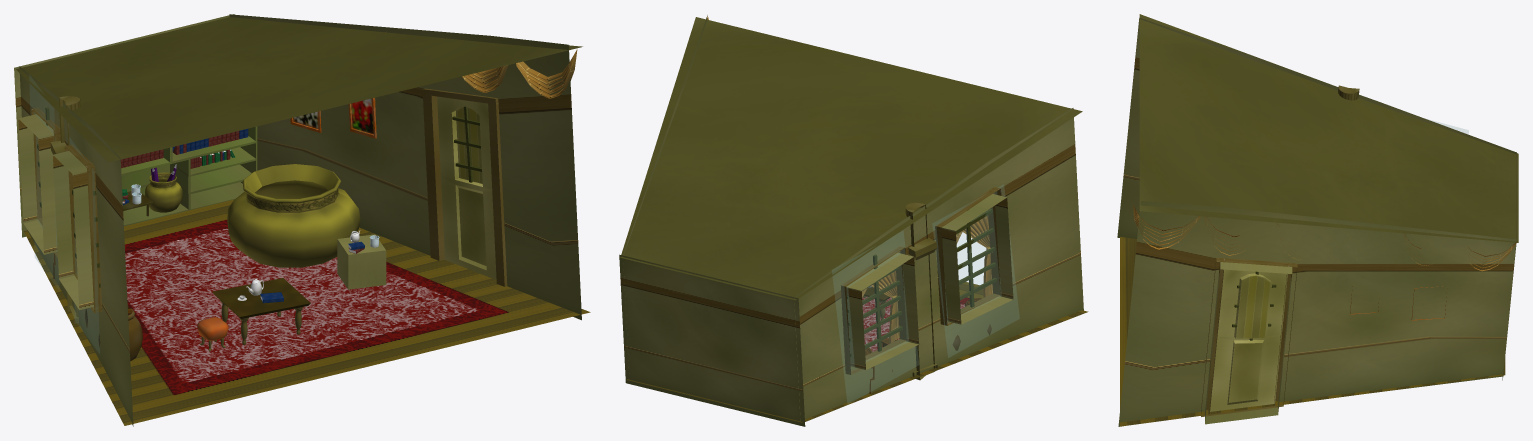
File: bg_302_aliceA.fbx
3 renders of one model, left to right at view 1: azimuth 30°, elevation 25°; view 2: azimuth 150°, elevation 25°; view 3: azimuth 270°, elevation 25°, orthographic. The views are drawn at different scales.
Visible parts, largest first — view 1: floor, pPlane4, polySurface1, pPlane2, pTorus11, polySurface4, Hondana, pasted__pPlane2, polySurface3, pCube30, pCube31, pPlane6 (+10 smaller); view 2: pPlane4, pPlane2, pPlane5, pasted__pPlane2, pPlane17, pPlane16, floor, pPlane6, pPlane7, pPlane8, pPlane9, polySurface1; view 3: polySurface1, pPlane4, polySurface4, pPlane2, floor, polySurface3, pasted__pPlane2, pPlane15.
Boxes of the visible parts, <box> form: floor: <box>24,199,590,425</box>; pPlane4: <box>16,17,582,162</box>; polySurface1: <box>229,14,581,320</box>; pPlane2: <box>18,66,133,426</box>; pTorus11: <box>227,164,360,267</box>; polySurface4: <box>437,96,496,279</box>; Hondana: <box>121,126,257,226</box>; pasted__pPlane2: <box>18,71,132,415</box>; polySurface3: <box>422,88,507,286</box>; pCube30: <box>337,234,386,289</box>; pCube31: <box>212,278,310,318</box>; pPlane6: <box>64,144,102,313</box>; pPlane4: <box>620,17,1082,300</box>; pPlane2: <box>794,108,1083,421</box>; pPlane5: <box>619,254,805,426</box>; pasted__pPlane2: <box>794,114,1082,417</box>; pPlane17: <box>832,231,918,403</box>; pPlane16: <box>933,185,1019,357</box>; floor: <box>627,280,1088,422</box>; pPlane6: <box>935,187,1001,325</box>; pPlane7: <box>841,246,906,374</box>; pPlane8: <box>956,210,992,297</box>; pPlane9: <box>862,271,899,343</box>; polySurface1: <box>623,17,707,373</box>; polySurface1: <box>1118,201,1516,426</box>; pPlane4: <box>1139,14,1518,242</box>; polySurface4: <box>1210,269,1287,411</box>; pPlane2: <box>1117,17,1516,238</box>; floor: <box>1120,237,1505,426</box>; polySurface3: <box>1201,258,1297,416</box>; pasted__pPlane2: <box>1118,23,1510,238</box>; pPlane15: <box>1133,205,1204,249</box>.
Bounding box in the file's own units: 1611 × 867 × 1386.
